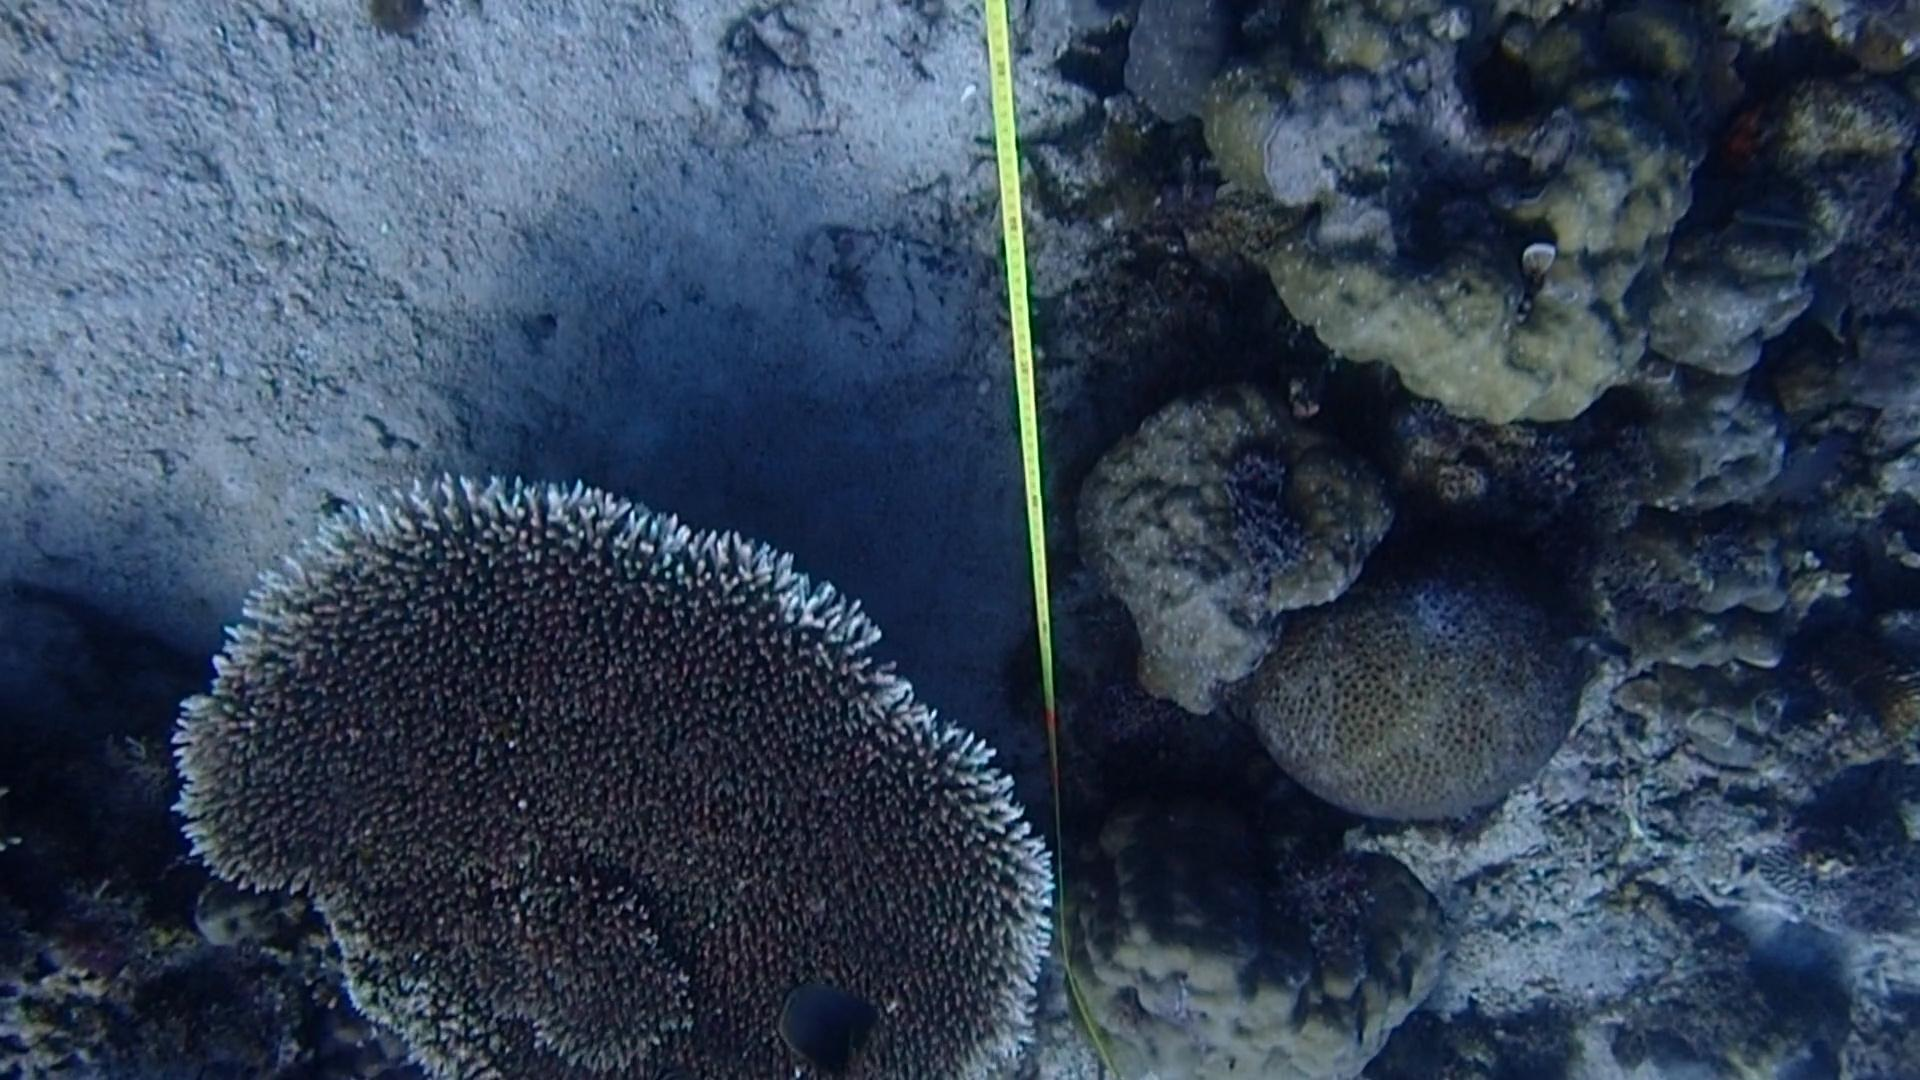Dark Blue Dory: (769, 975, 891, 1080)
Light Fish: (1733, 182, 1838, 261), (1553, 615, 1640, 675)
